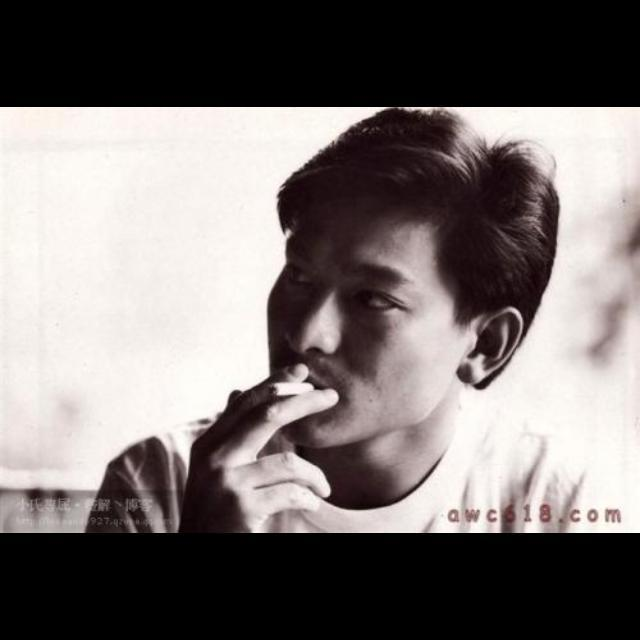rokok: (264, 376, 322, 400)
